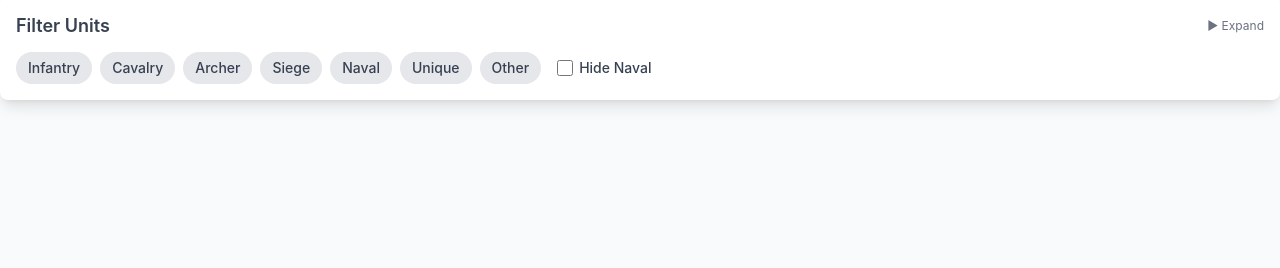
Scenario: UnitFilter › Search input › should show clear filters button when search is active
Click the button "► Expand" at [1236, 26], box [1207,18,1264,34]
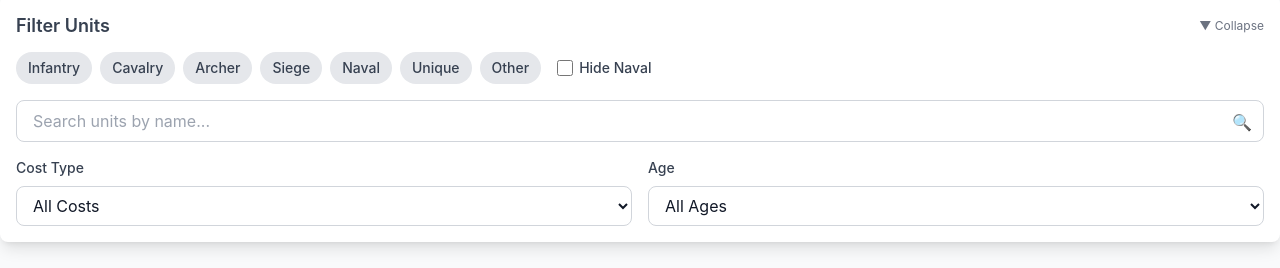
Type "knight" into the field with placeholder "Search units by name..." at [640, 121], box [16,100,1264,142]
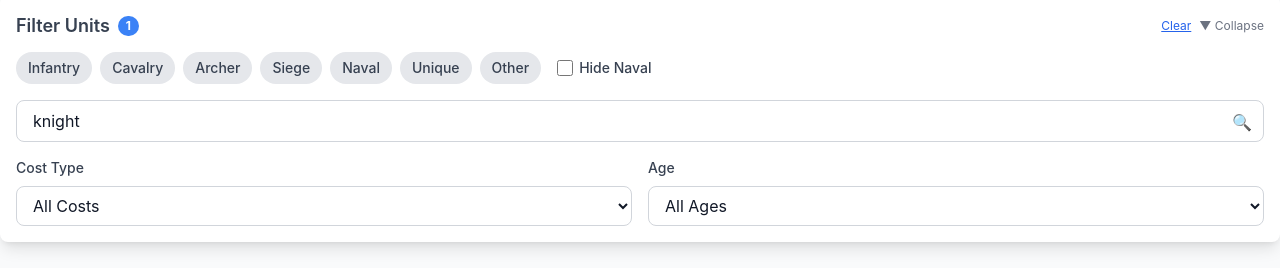
Now the button "Clear" is shown, box [1161,18,1191,34]
